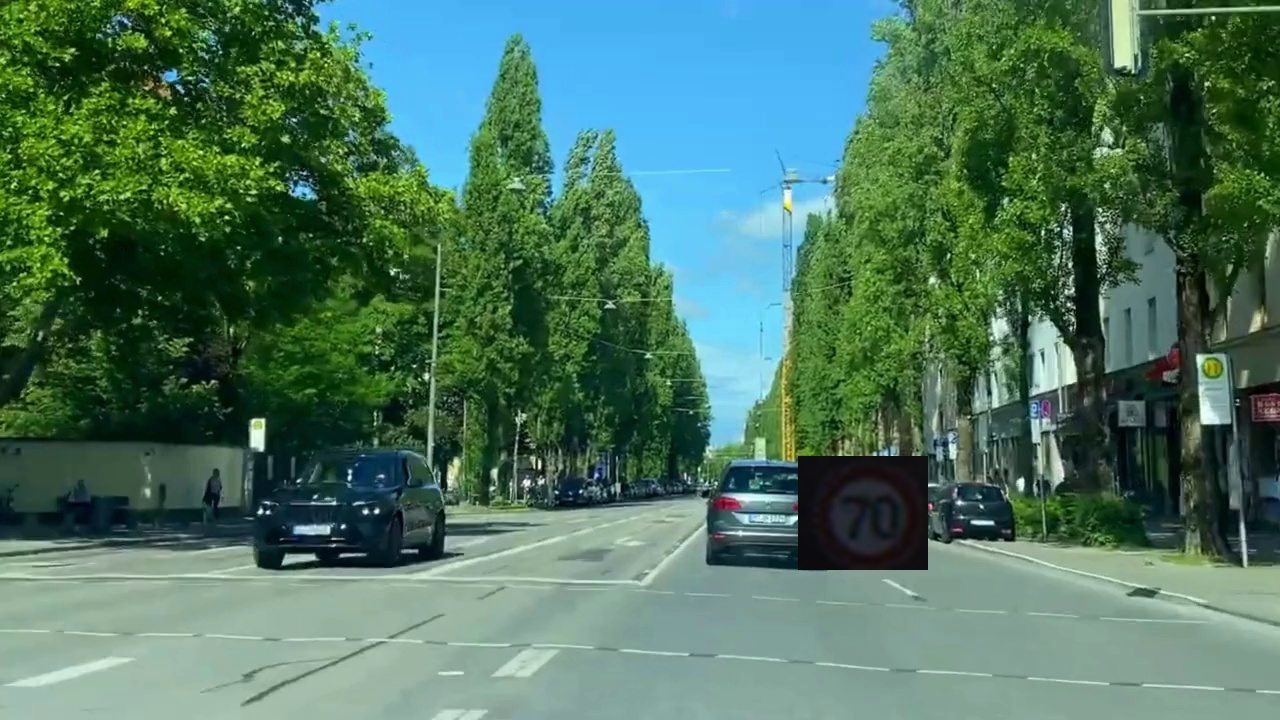Speed 70: (798, 456, 928, 570)
